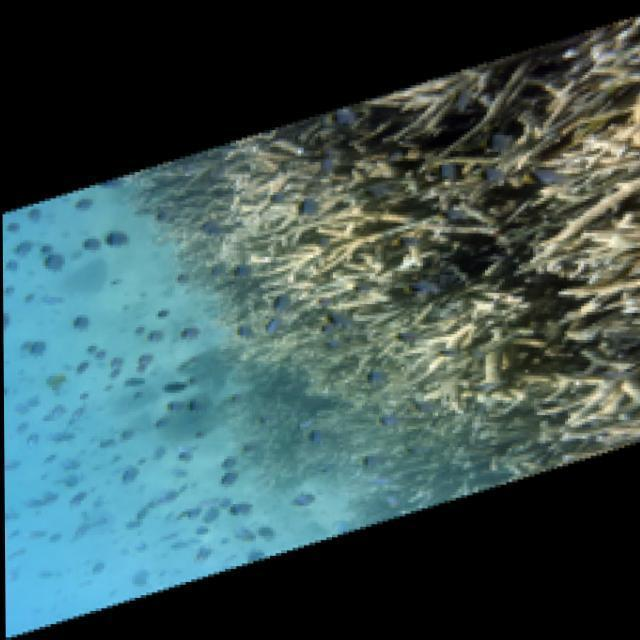Dead Coral: (432, 68, 640, 459), (196, 109, 479, 320)
